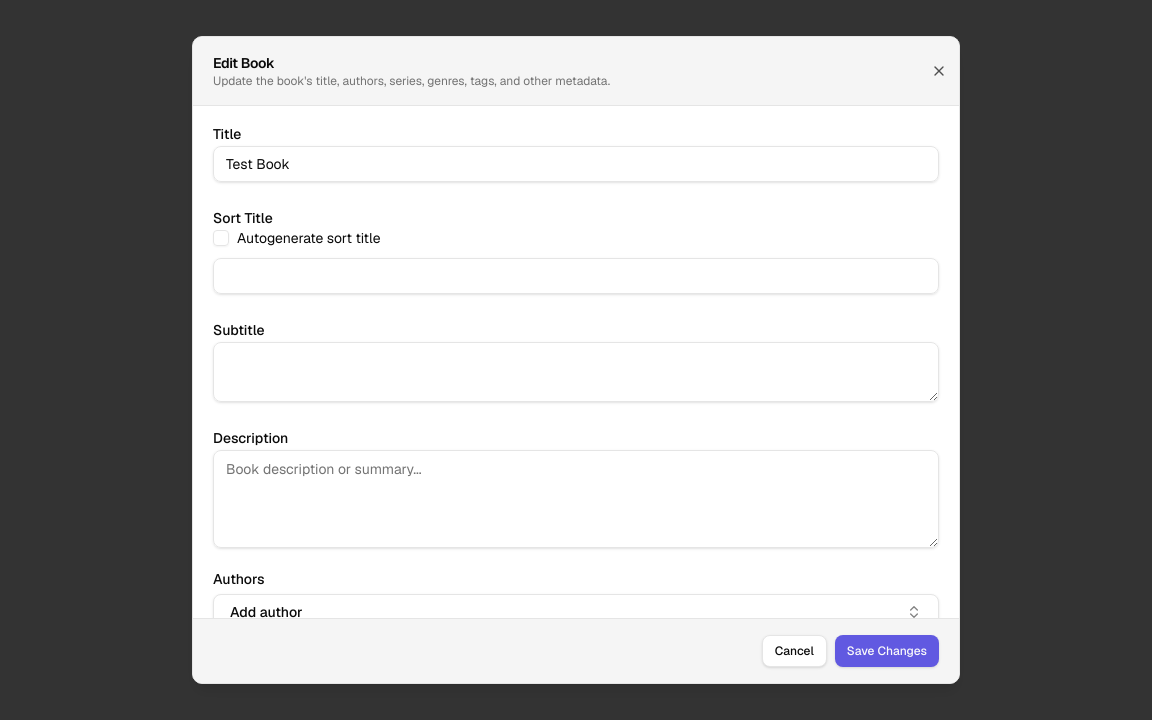
Test: BookEditDialog without People or Series Read › requests no people or series while typing, and still offers free text
Click the dropdown.
click(266, 612)  # box [213, 594, 939, 630]
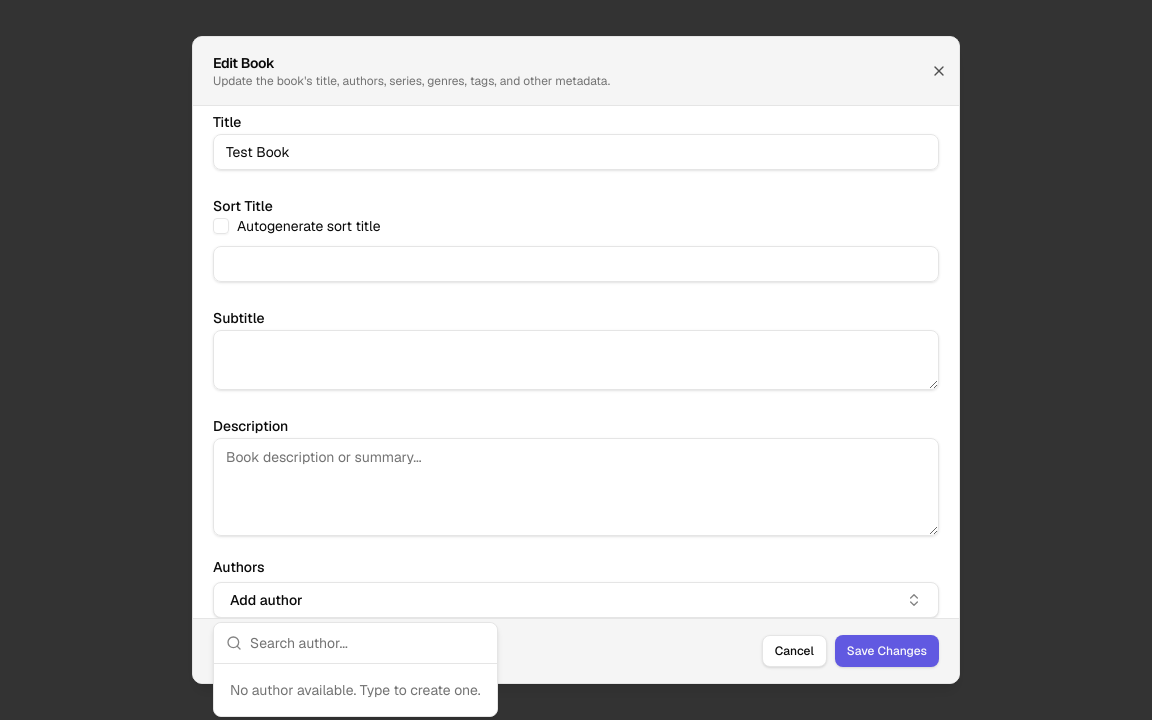
Type "Le Guin" into the dropdown with placeholder "Search author...".
click(367, 643); type("Le Guin")  # box [250, 623, 485, 663]
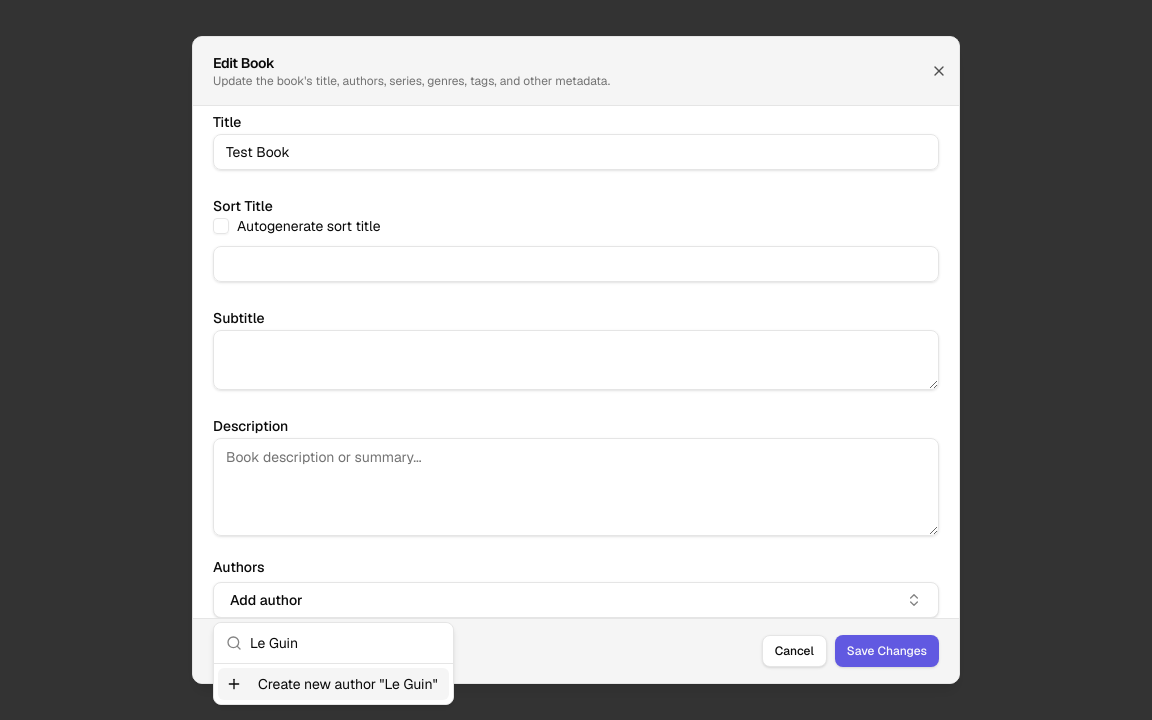
Now the text "Create new author \"Le Guin\"" is shown, box [258, 674, 438, 694]
